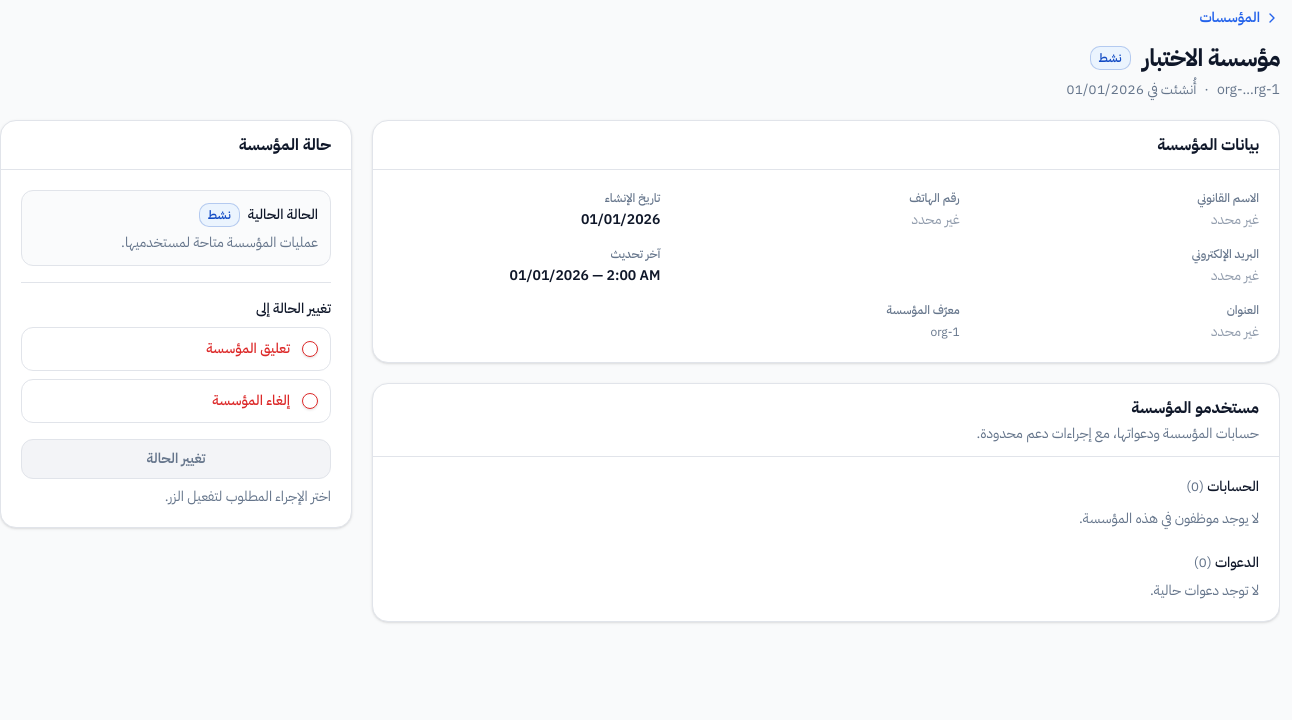
Test: PlatformOrganizationDetailPage › explains why the change button is disabled and clears the hint when it is enabled
Expected: the button "تغيير الحالة" is disabled, [21,439,331,479]
Click the radio button next to "تعليق المؤسسة" at (310, 349), box [302,341,318,357]
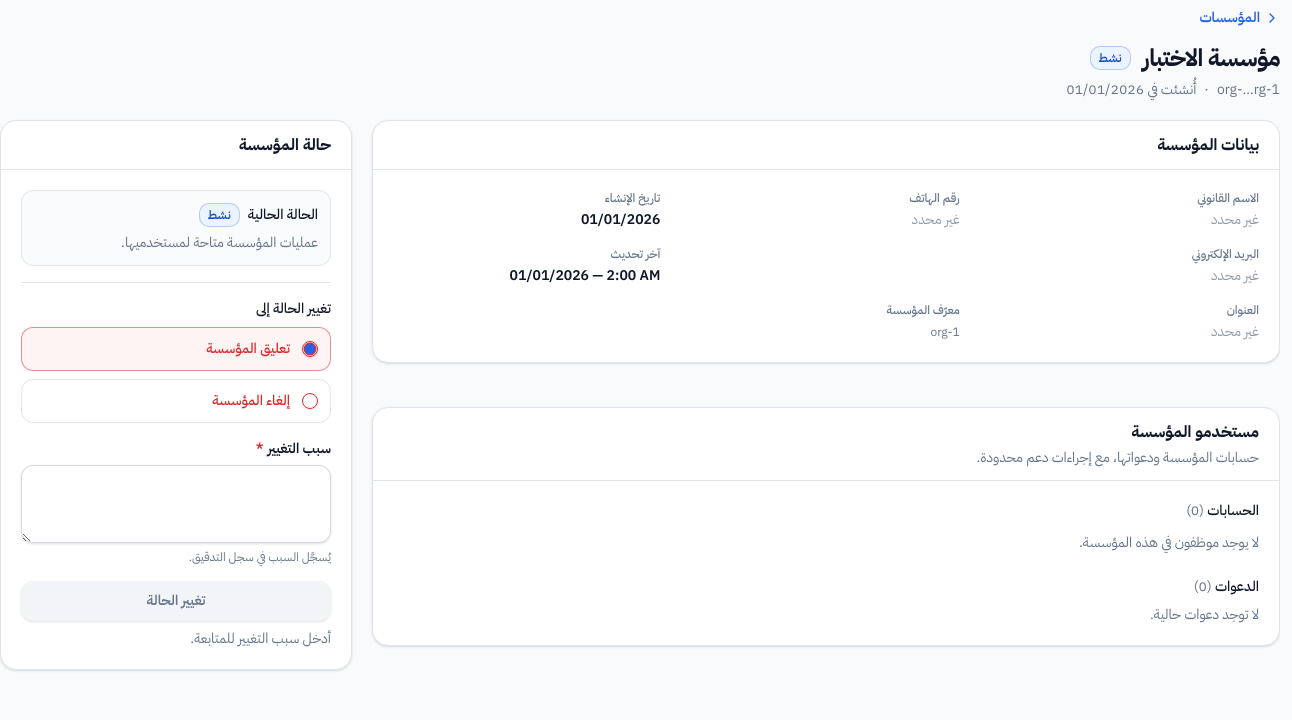
Type "سبب" into the text box labelled "سبب التغيير*" at (176, 504), box [21,465,331,543]
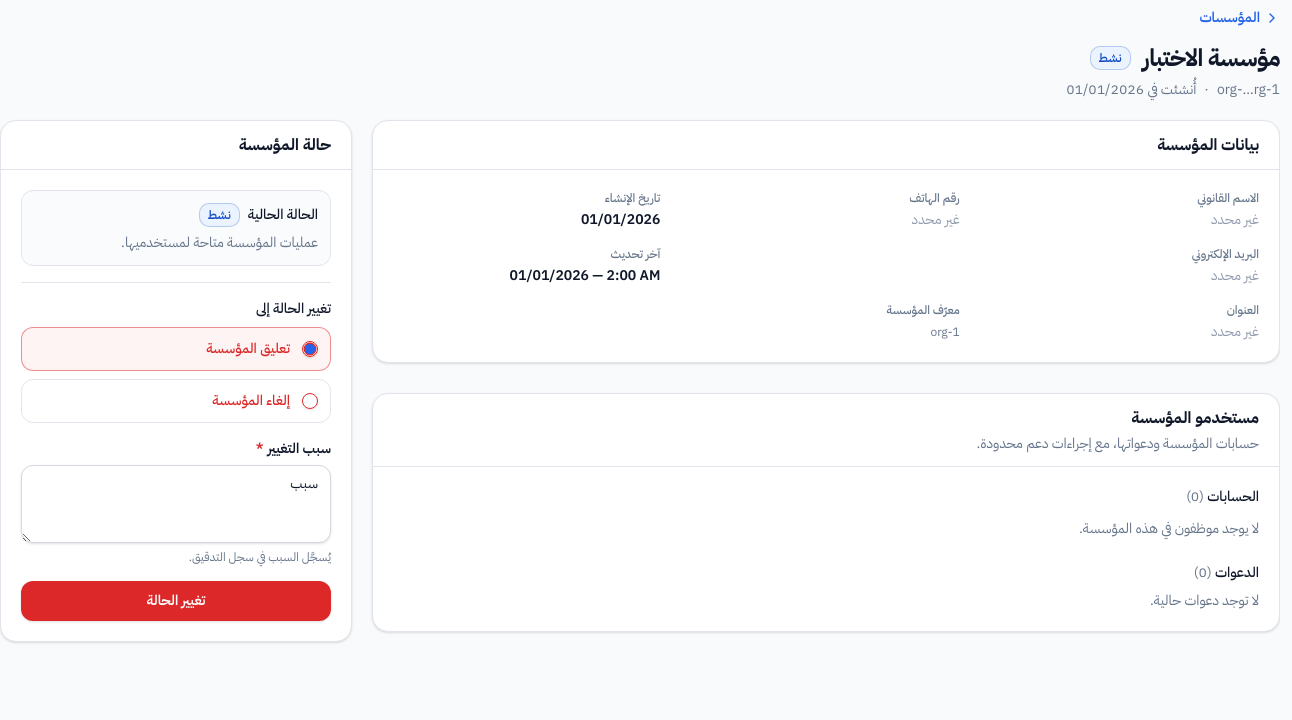
Expected: the button "تغيير الحالة" is enabled, [21,581,331,621]
Expected: the text "أدخل سبب التغيير للمتابعة." is gone
